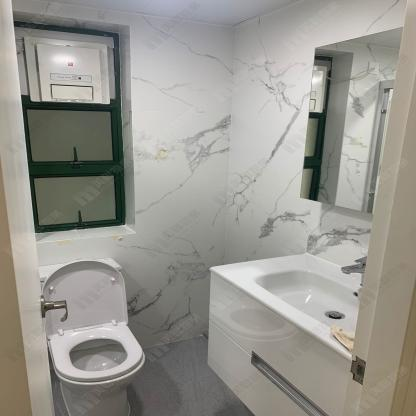Toilet: (38, 256, 144, 416)
Toilet Sink: (205, 252, 364, 363)
